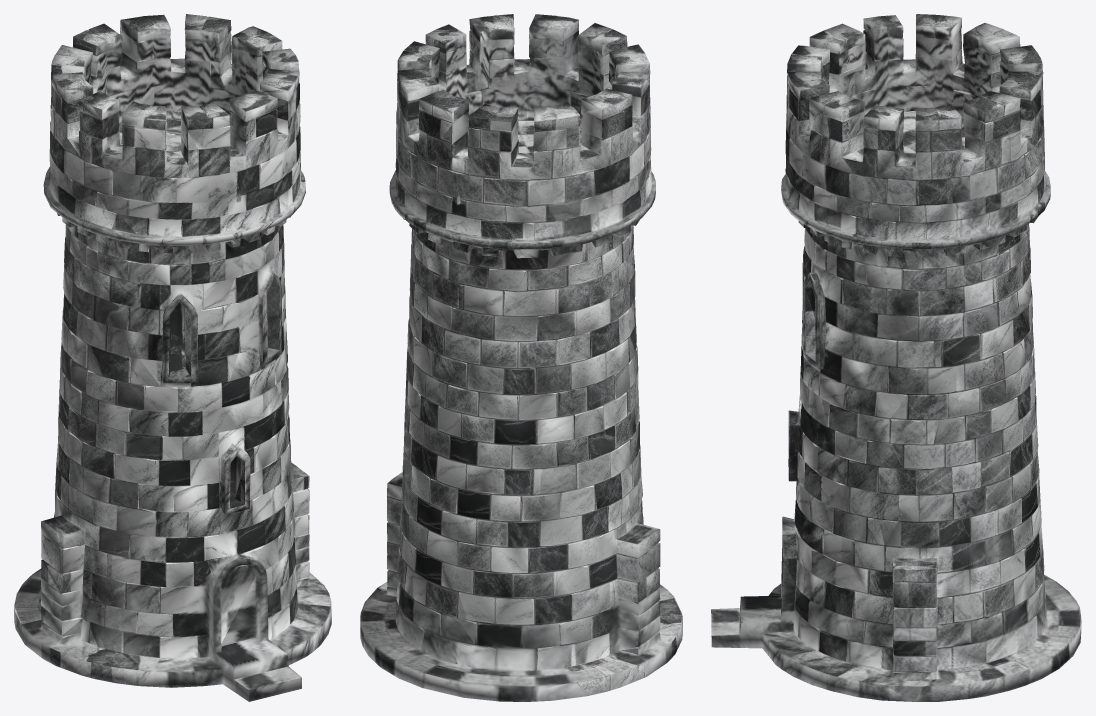
The model's file is TourChateau.fbx.
3 views of the same model, side by side, from view 1: azimuth 30°, elevation 25°; view 2: azimuth 150°, elevation 25°; view 3: azimuth 270°, elevation 25° (orthographic). The views are drawn at different scales.
Parts seen in each view (by area): view 1: Mesh_0; view 2: Mesh_0; view 3: Mesh_0.
Boxes of the visible parts, bbox=[...] form: Mesh_0: bbox=[14, 14, 331, 701]; Mesh_0: bbox=[360, 14, 682, 701]; Mesh_0: bbox=[711, 14, 1081, 701].
Size of the model in its own units: 98.5 by 190 by 113.
Materials: 1 (1 with a texture image).
